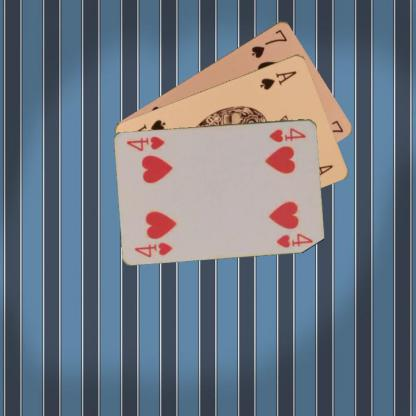4h: (132, 239, 174, 258), (266, 125, 308, 143)
7s: (248, 26, 289, 60)
As: (257, 68, 298, 91)
